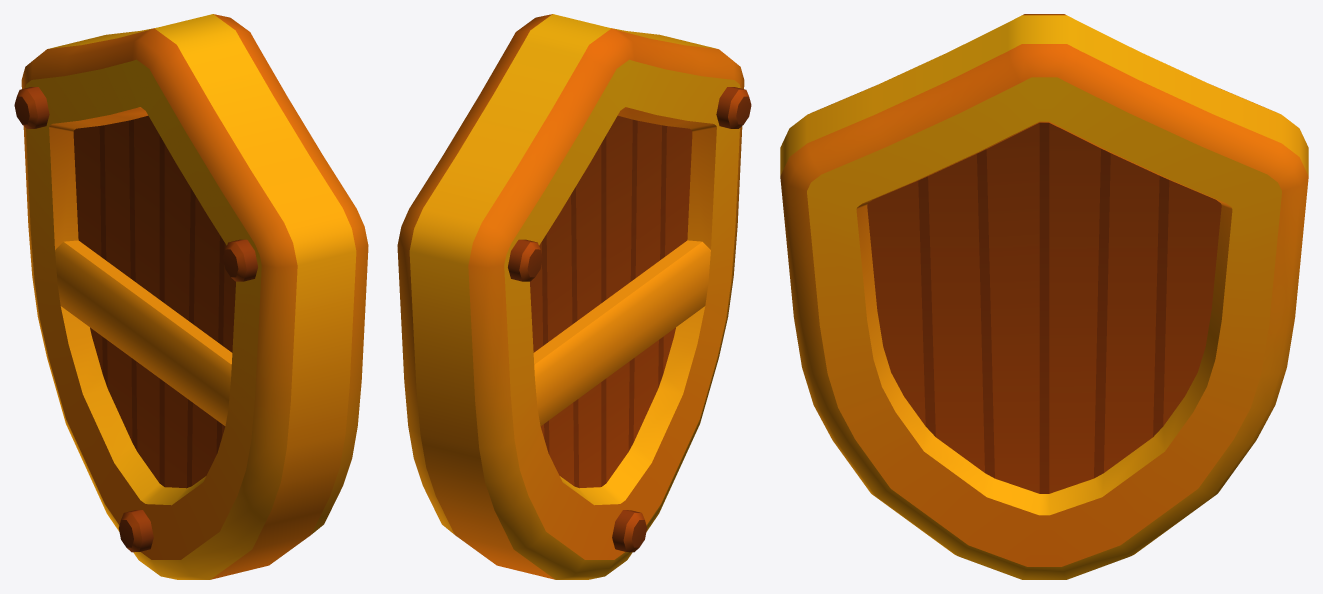
The model's file is Shield_V1_01.fbx.
3 renders of one model, left to right at view 1: azimuth 30°, elevation 25°; view 2: azimuth 150°, elevation 25°; view 3: azimuth 270°, elevation 25°, orthographic.
Parts seen in each view (by area): view 1: Shield_V1_01; view 2: Shield_V1_01; view 3: Shield_V1_01.
Part boxes in pixels (x1=…): Shield_V1_01: x1=14, y1=14, x2=368, y2=579; Shield_V1_01: x1=397, y1=14, x2=751, y2=579; Shield_V1_01: x1=780, y1=14, x2=1308, y2=579.
Size of the model in its own units: 9.61 by 40.7 by 36.44.
